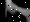person: (4, 1, 30, 22)
